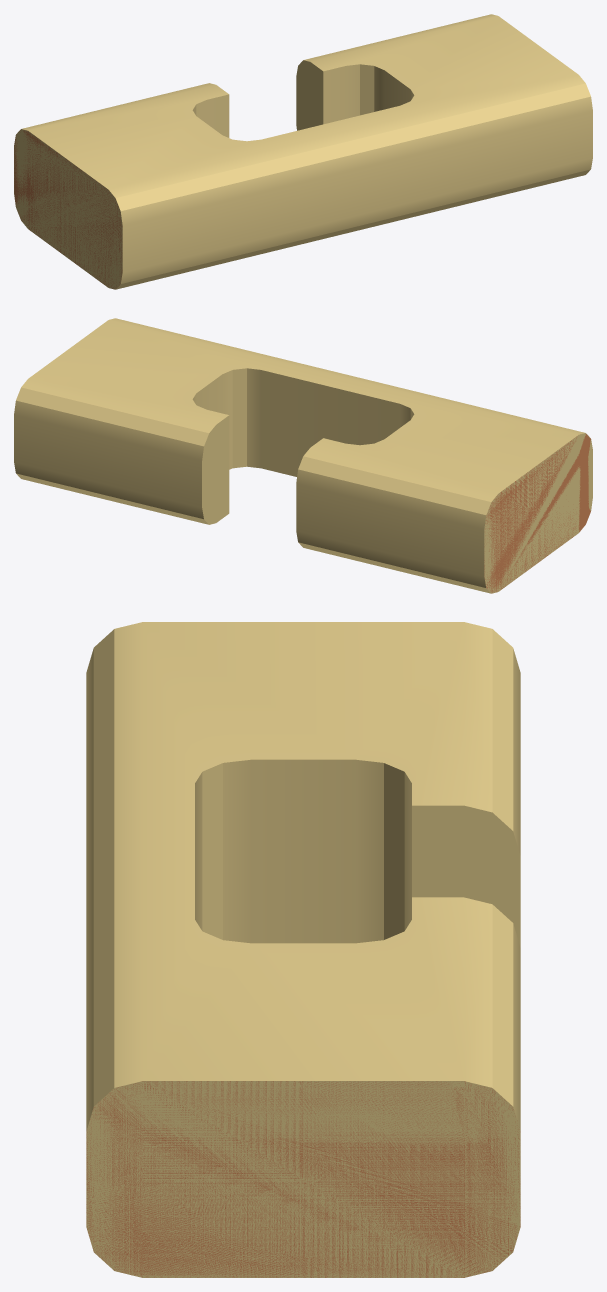
The model's file is LuBanShuo01.fbx.
The picture shows the model from 3 angles, top to bottom: view 1: azimuth 30°, elevation 25°; view 2: azimuth 150°, elevation 25°; view 3: azimuth 270°, elevation 25°; orthographic projection. The views are drawn at different scales.
Parts seen in each view (by area): view 1: LuBanShuo001, polySurface25, polySurface31, polySurface17; view 2: LuBanShuo001, polySurface25, polySurface17, polySurface31; view 3: LuBanShuo001, polySurface10, polySurface17, polySurface1.
Part boxes in pixels (box(x1,y1,x2,y2)): LuBanShuo001: box(14, 14, 592, 289); polySurface25: box(28, 131, 108, 284); polySurface31: box(14, 129, 27, 225); polySurface17: box(109, 191, 122, 288); LuBanShuo001: box(14, 318, 592, 593); polySurface25: box(498, 438, 578, 589); polySurface17: box(579, 434, 590, 531); polySurface31: box(484, 495, 498, 592); LuBanShuo001: box(86, 622, 520, 1277); polySurface10: box(142, 1081, 464, 1277); polySurface17: box(86, 1083, 142, 1277); polySurface1: box(464, 1081, 520, 1277).
Bounding box in the file's own units: 20 × 4 × 8.
